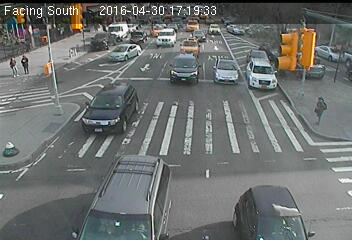neg: (138, 42, 159, 70), (182, 117, 202, 144), (115, 112, 134, 138), (108, 181, 127, 207), (246, 162, 265, 188), (306, 161, 325, 186), (90, 35, 108, 59), (182, 57, 200, 81), (78, 138, 96, 162), (288, 46, 305, 69), (9, 136, 25, 157), (181, 171, 197, 192), (223, 61, 239, 81), (253, 86, 268, 105)
pos: (309, 93, 333, 124), (18, 51, 37, 76), (5, 54, 22, 77)
